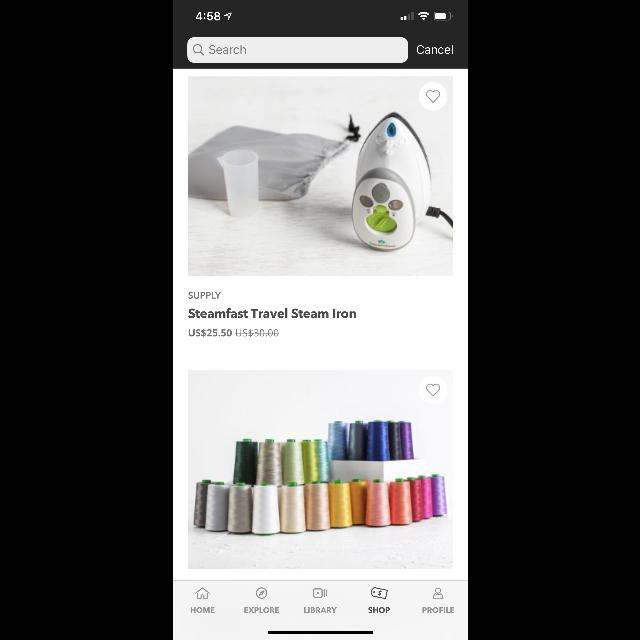icon: (419, 83, 447, 111), (419, 376, 447, 404), (370, 587, 388, 599), (192, 44, 204, 56), (313, 588, 327, 598), (195, 588, 209, 598), (433, 588, 443, 598), (256, 588, 266, 598)
image: (188, 370, 452, 570), (188, 77, 452, 276)
input: (186, 38, 408, 62)
text: (187, 308, 355, 318), (188, 329, 278, 337), (209, 46, 245, 54), (416, 46, 452, 54), (422, 607, 454, 613), (188, 292, 220, 298), (190, 607, 214, 613), (244, 608, 278, 612), (368, 607, 390, 613), (304, 608, 336, 612)
uppertaskbar: (195, 12, 452, 21)
